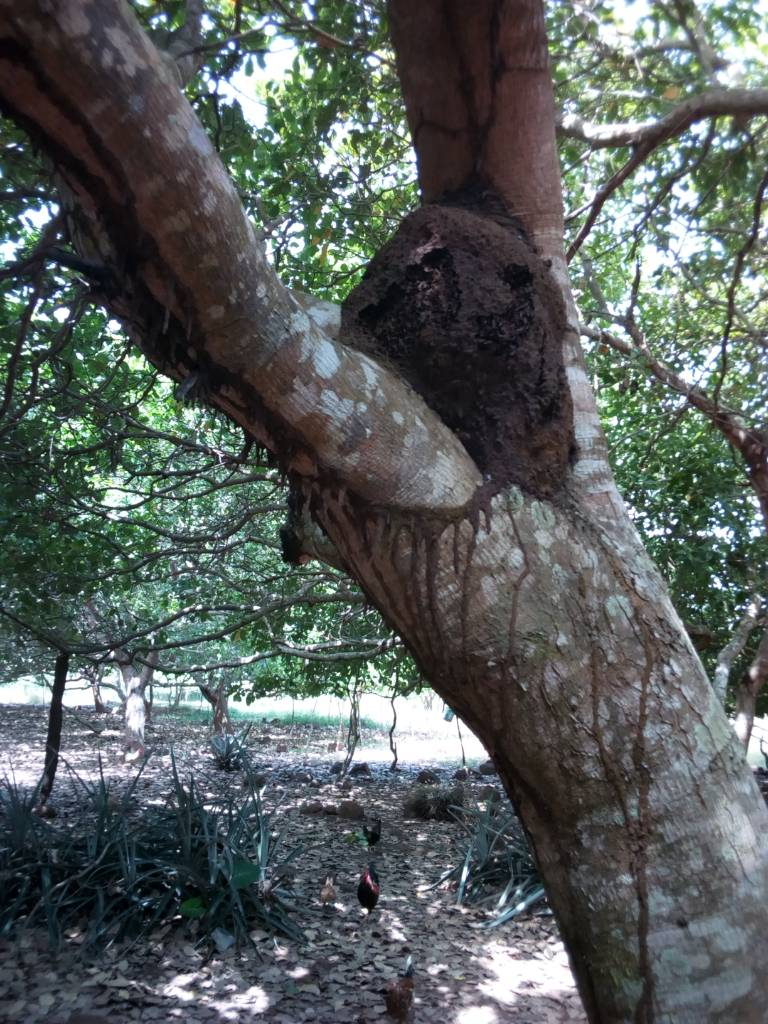Termites: (368, 208, 580, 488), (583, 649, 686, 1022), (358, 502, 527, 639)
